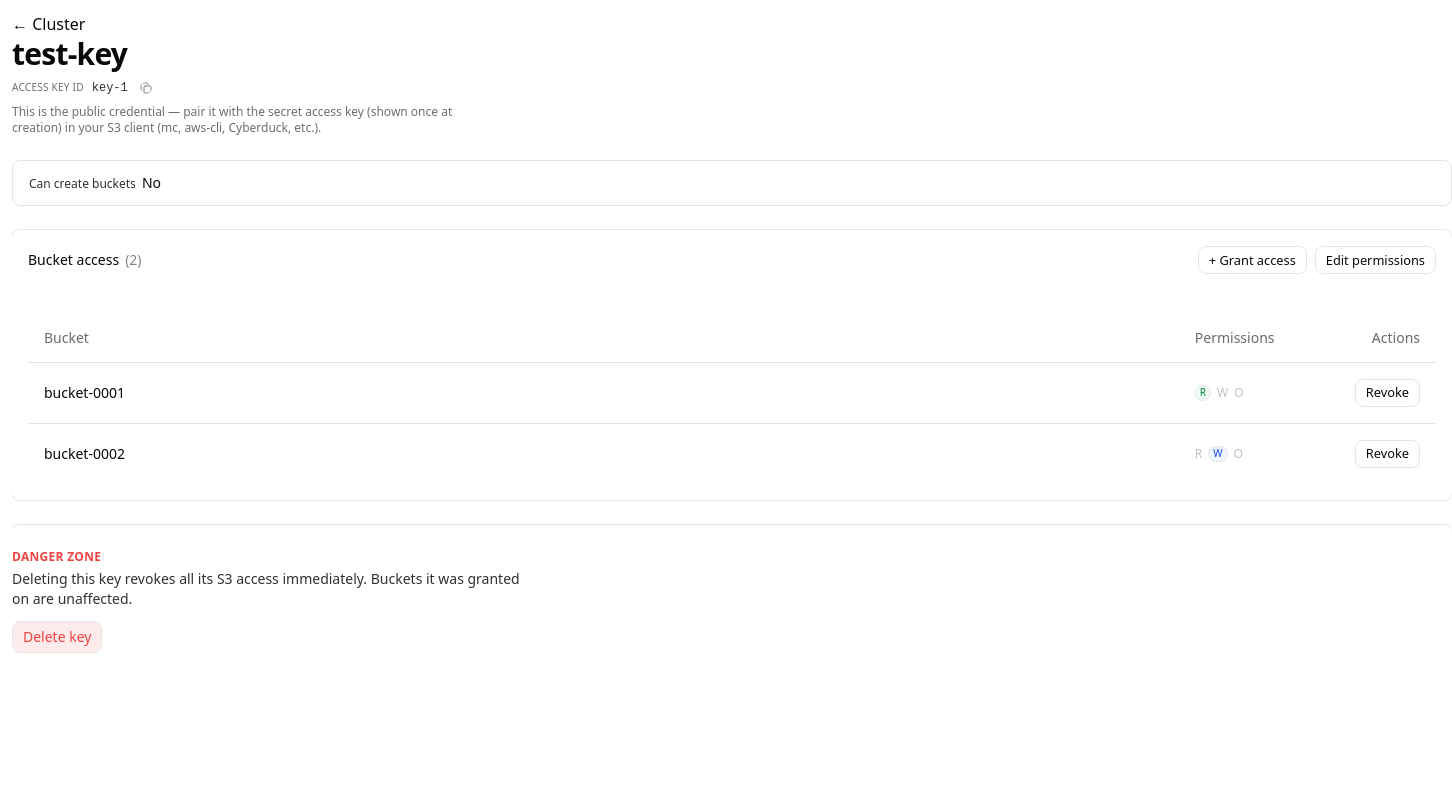
Test case: /admin/clusters/$cid/keys/$id — paginated permissions (v1.4.0b) › 'Only granted' toggle filters to rows with at least one permission bit set
Click the button "Edit permissions": (1375, 260) [1315, 246, 1436, 274]
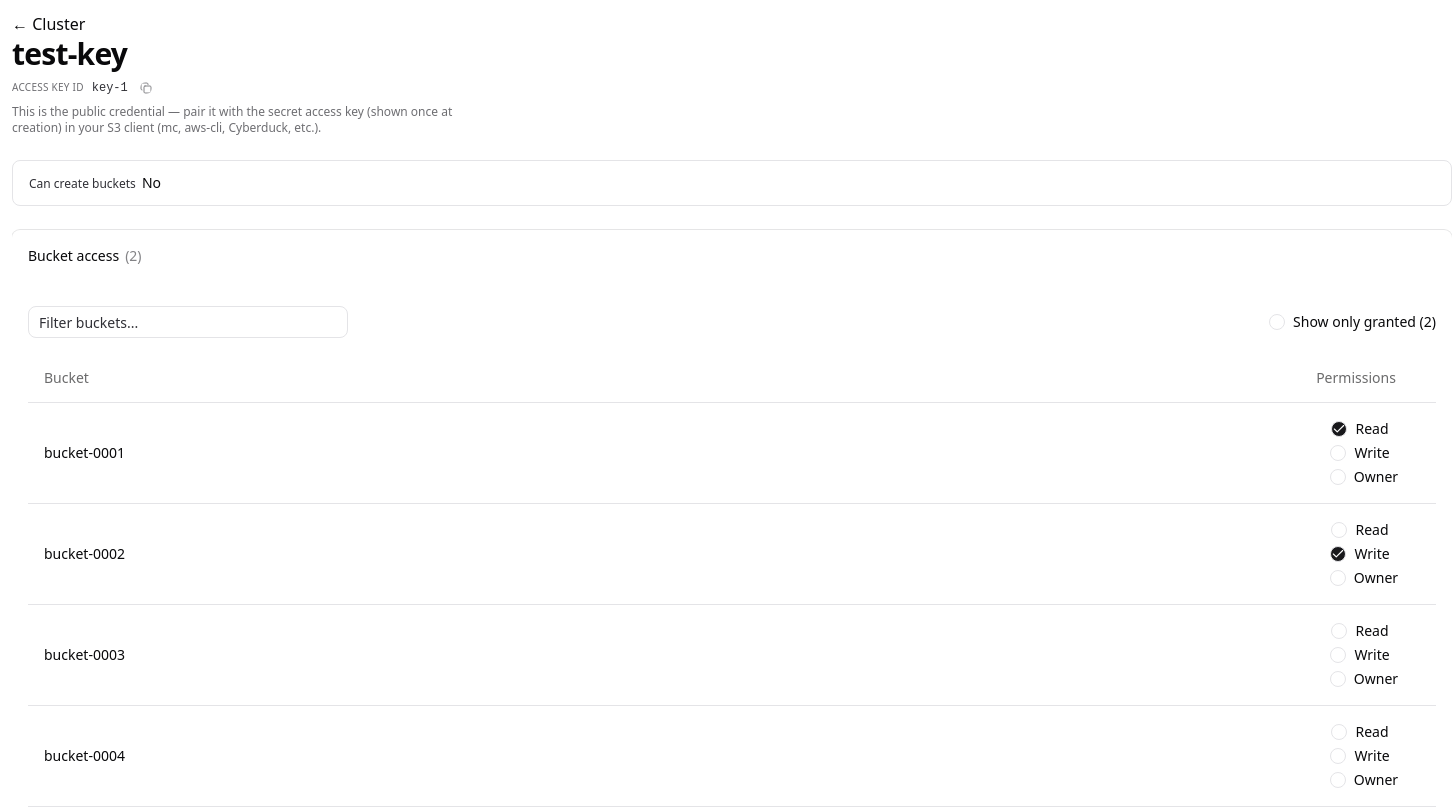
Flip the "Only granted" toggle.
Click the checkbox with test id "key-perms-only-granted": (1277, 322) [1269, 314, 1285, 330]
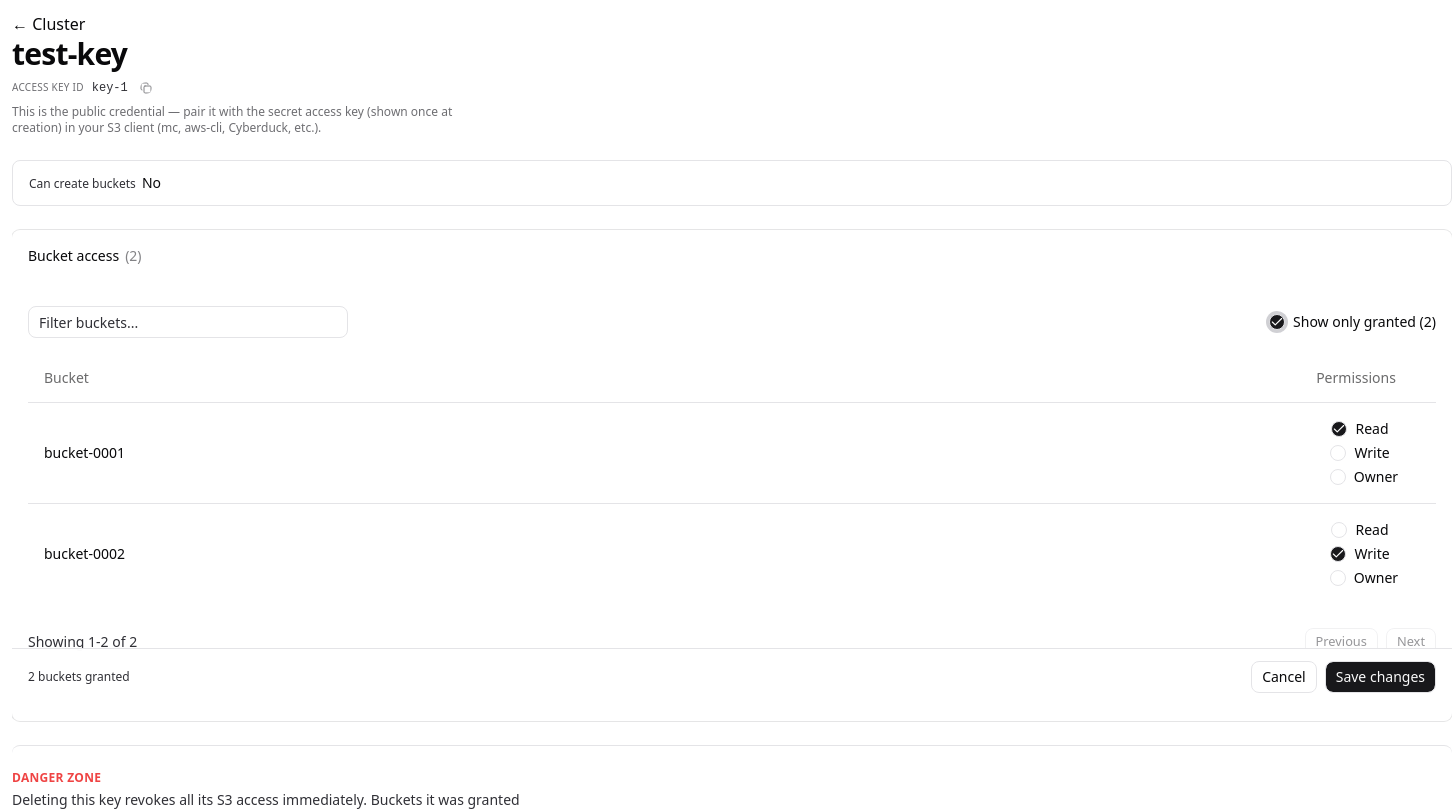
Expected: the text "bucket-0001" is shown, [44, 442, 125, 462]
Expected: the text with test id "key-perms-page-indicator" reads "Showing 1-2 of 2", [28, 632, 137, 650]
Expected: the text "bucket-0003" is gone
